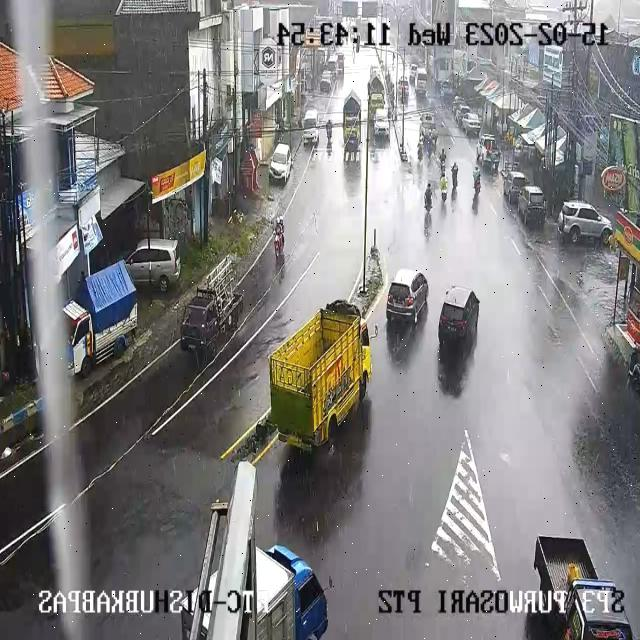Car: (126, 238, 182, 292), (439, 286, 481, 345), (557, 200, 612, 244), (388, 269, 430, 324), (516, 186, 546, 225), (270, 144, 293, 183), (502, 170, 529, 203), (477, 134, 498, 163), (303, 109, 320, 142), (372, 108, 390, 137), (461, 112, 481, 134), (418, 111, 436, 133), (454, 104, 471, 126), (415, 69, 428, 95), (512, 140, 526, 163), (320, 71, 334, 92), (452, 96, 466, 115), (398, 78, 410, 100), (440, 82, 454, 99), (328, 52, 339, 72), (409, 64, 418, 81), (336, 53, 344, 67)
Motorbike: (273, 215, 284, 257), (228, 208, 244, 226), (424, 183, 433, 210), (439, 174, 448, 200), (451, 163, 459, 187), (424, 210, 432, 234), (473, 166, 481, 189), (425, 135, 432, 158), (431, 130, 438, 152), (439, 149, 446, 169), (417, 142, 424, 162), (326, 136, 333, 156), (326, 119, 332, 141)
Truck: (275, 302, 367, 441), (207, 545, 329, 640), (46, 261, 130, 374), (541, 534, 628, 640), (180, 273, 246, 366), (341, 102, 362, 151), (368, 65, 384, 124)
